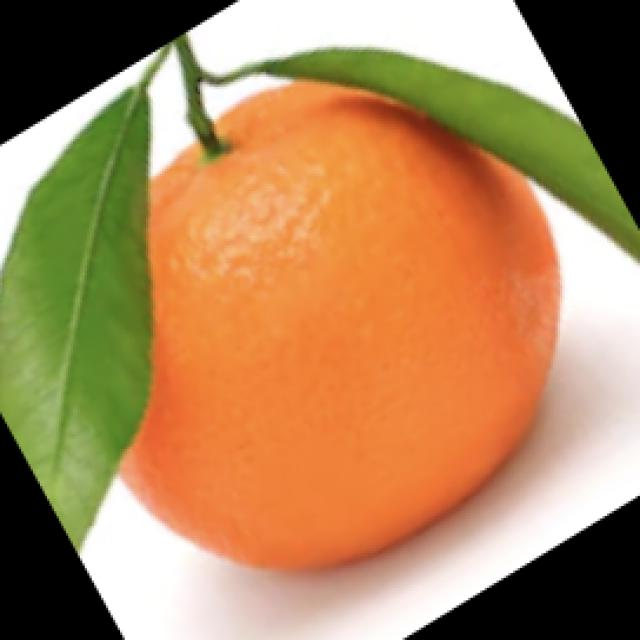fresh: (1, 0, 600, 600)
